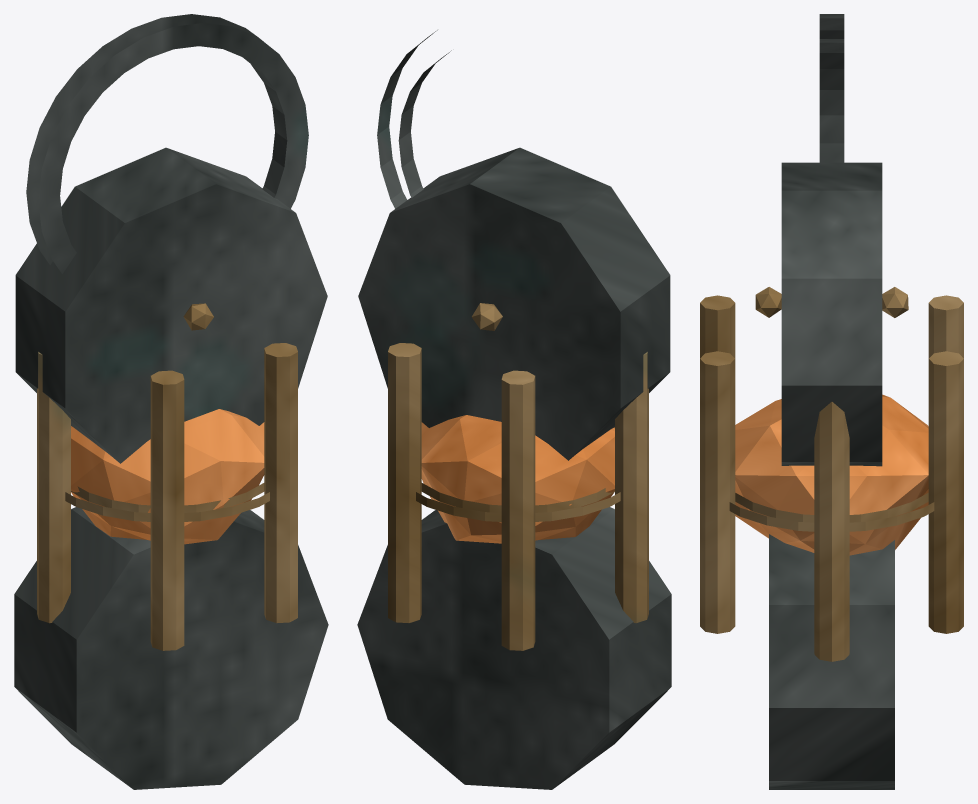
File: 0924_lantern_24.glb
3 views of the same model, side by side, from view 1: azimuth 30°, elevation 25°; view 2: azimuth 150°, elevation 25°; view 3: azimuth 270°, elevation 25° (orthographic).
Parts seen in each view (by area): view 1: iron, brass, amber; view 2: iron, brass, amber; view 3: iron, brass, amber.
Boxes of the visible parts, bbox=[...] form: iron: bbox=[14, 14, 328, 789]; brass: bbox=[37, 303, 297, 650]; amber: bbox=[71, 409, 264, 544]; iron: bbox=[357, 30, 671, 789]; brass: bbox=[388, 303, 648, 650]; amber: bbox=[421, 415, 614, 543]; iron: bbox=[769, 14, 894, 789]; brass: bbox=[700, 287, 963, 661]; amber: bbox=[735, 394, 928, 555].
Size of the model in its own units: 0.5 by 1.32 by 0.4197.
3 materials, 3 textured.
